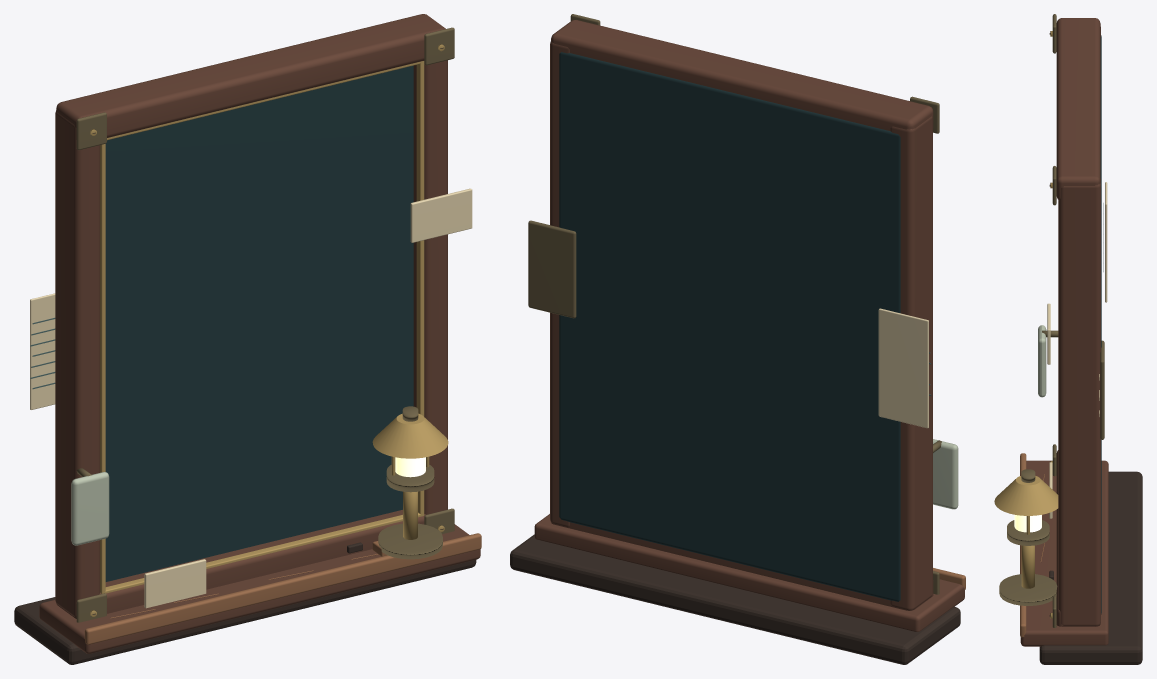
Rendered from frame.glb.
The picture shows the model from 3 angles, left to right: view 1: azimuth 30°, elevation 25°; view 2: azimuth 150°, elevation 25°; view 3: azimuth 270°, elevation 25°; orthographic projection. The views are drawn at different scales.
Visible parts, largest first — view 1: frame_Portrait backing, frame_Walnut, frame_Brushed brass, frame_Wood wear, frame_Aged brass, frame_End grain, frame_Cotton paper, ClothProp, DedicationProp, LampShade, LetterProp; view 2: frame_Portrait backing, frame_Walnut, frame_End grain, frame_Cotton paper, frame_Aged brass, ClothProp; view 3: frame_Walnut, frame_End grain, frame_Aged brass, LampShade, frame_Brushed brass, frame_Portrait backing, ClothProp, frame_Wood wear, LampGlow, frame_Cotton paper, DedicationProp.
Boxes of the visible parts, x1,y1,x2,y2 form: frame_Portrait backing: (105, 65, 413, 581); frame_Walnut: (39, 14, 480, 653); frame_Brushed brass: (90, 44, 444, 616); frame_Wood wear: (84, 533, 481, 644); frame_Aged brass: (76, 27, 454, 622); frame_End grain: (14, 47, 476, 664); frame_Cotton paper: (30, 293, 55, 409); ClothProp: (71, 472, 109, 545); DedicationProp: (410, 188, 472, 242); LampShade: (372, 413, 448, 458); LetterProp: (144, 559, 206, 608); frame_Portrait backing: (559, 52, 900, 601); frame_Walnut: (534, 20, 964, 631); frame_End grain: (510, 534, 960, 664); frame_Cotton paper: (878, 308, 928, 428); frame_Aged brass: (528, 14, 941, 594); ClothProp: (933, 439, 958, 509); frame_Walnut: (1020, 18, 1108, 646); frame_End grain: (1039, 33, 1142, 664); frame_Aged brass: (999, 14, 1104, 627); LampShade: (994, 476, 1058, 515); frame_Brushed brass: (1021, 31, 1052, 618); frame_Portrait backing: (1100, 35, 1101, 614); ClothProp: (1038, 325, 1046, 397); frame_Wood wear: (1020, 453, 1044, 637); LampGlow: (1014, 514, 1041, 532); frame_Cotton paper: (1099, 182, 1107, 416); DedicationProp: (1047, 303, 1050, 364).
Bounding box in the file's own units: 3.4 × 4.23 × 1.18.
